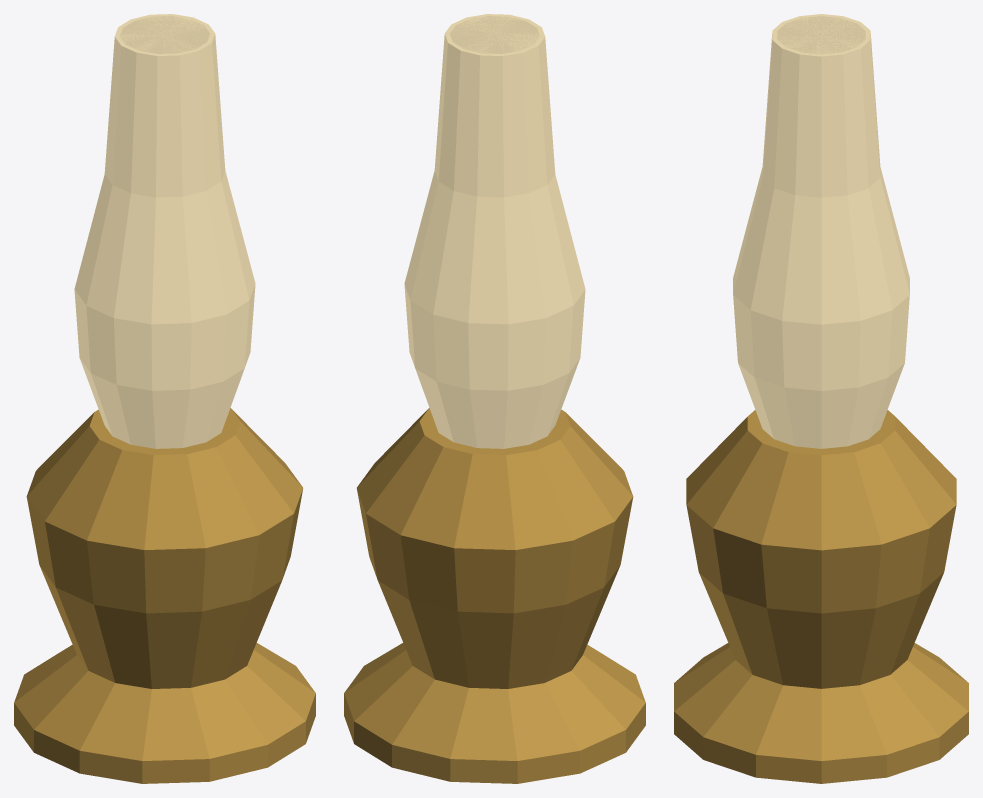
Rendered from lampicka.glb.
3 views of the same model, side by side, from view 1: azimuth 30°, elevation 25°; view 2: azimuth 150°, elevation 25°; view 3: azimuth 270°, elevation 25° (orthographic).
Parts seen in each view (by area): view 1: lampicka, noc; view 2: lampicka, noc; view 3: lampicka, noc.
Part boxes in pixels (box(x1,y1,x2,y2)): lampicka: box(14, 16, 315, 783); noc: box(74, 14, 255, 448); lampicka: box(344, 16, 645, 783); noc: box(404, 14, 585, 448); lampicka: box(674, 16, 968, 783); noc: box(733, 14, 909, 448).
Size of the model in its own units: 0.12 by 0.3 by 0.117.
2 materials, 2 textured.
